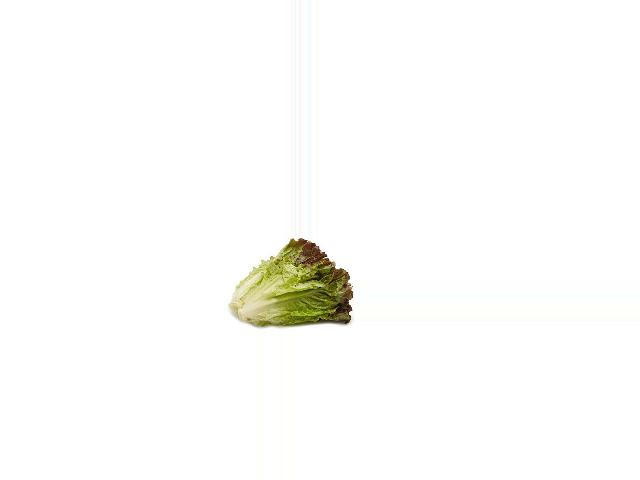lettuce: (231, 240, 355, 324)
